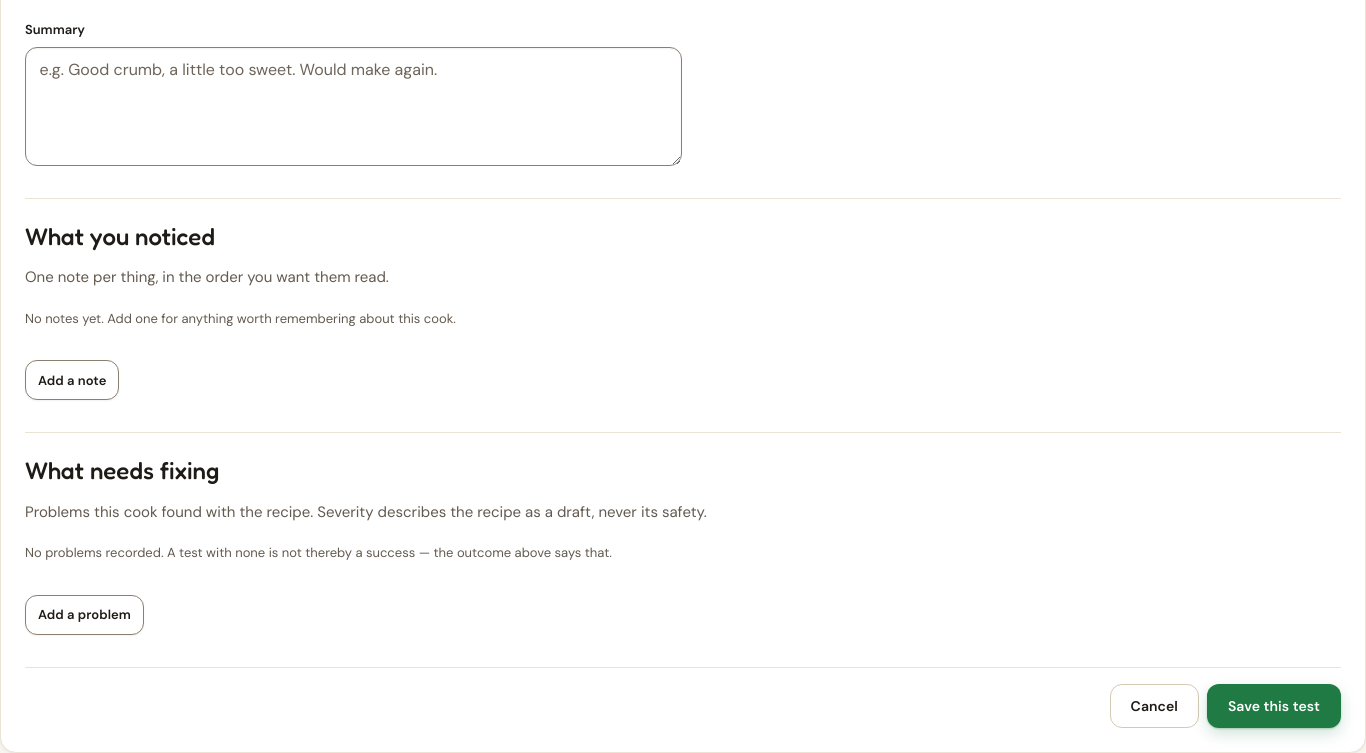
Test: RecipeTestRunFormComponent › says which role is needed when the workspace refuses the write
The image size is (1366, 753).
(page scrolled)
Click the submit button at (1274, 706), box [1207,684,1341,728]
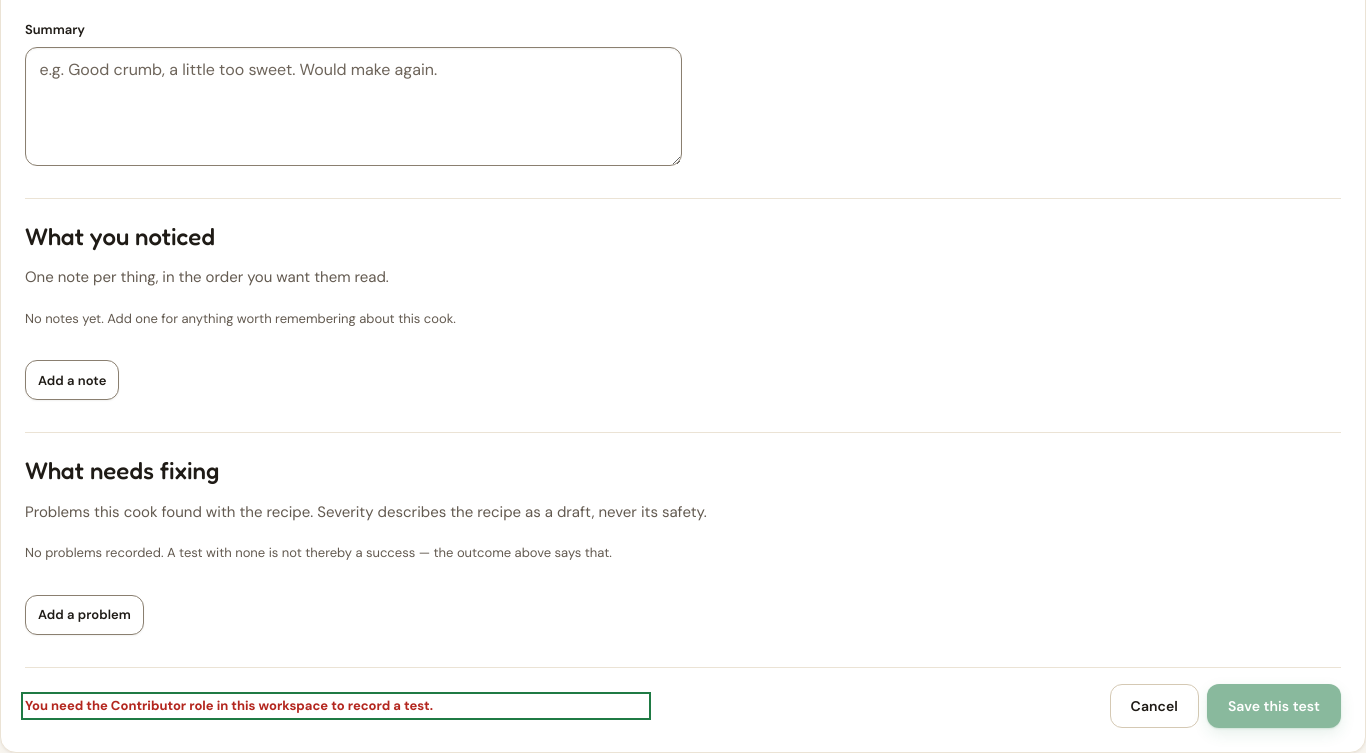
Expected: the text "Contributor role" is shown, [25,697,433,714]
